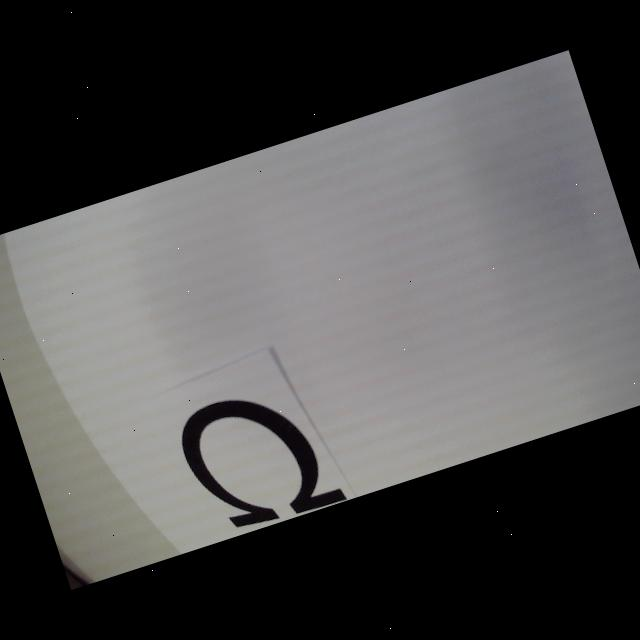OMEGA: (173, 374, 347, 544)
